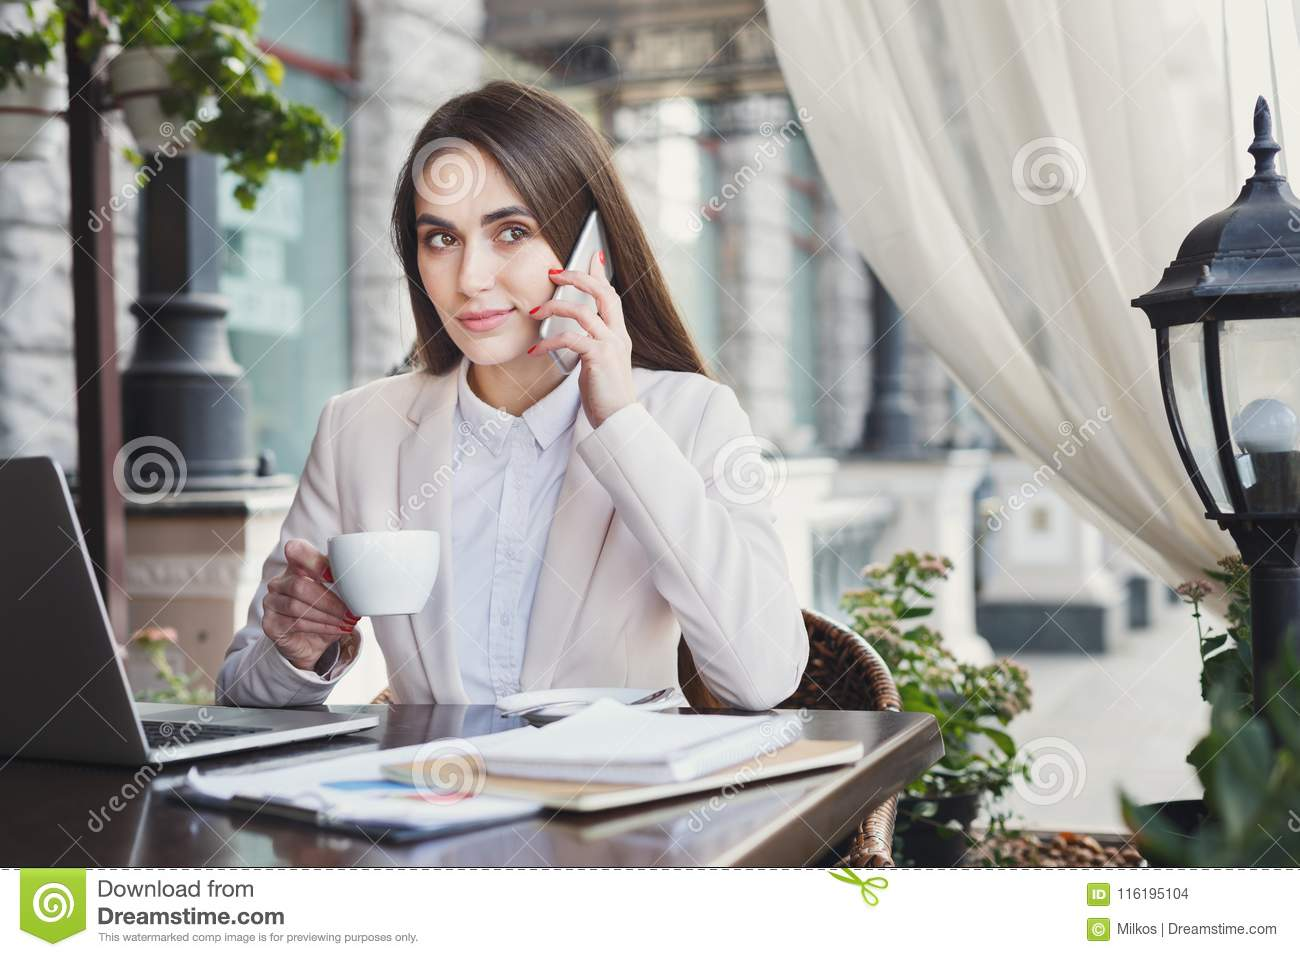phone: (540, 207, 617, 377)
talk: (412, 189, 637, 427)
